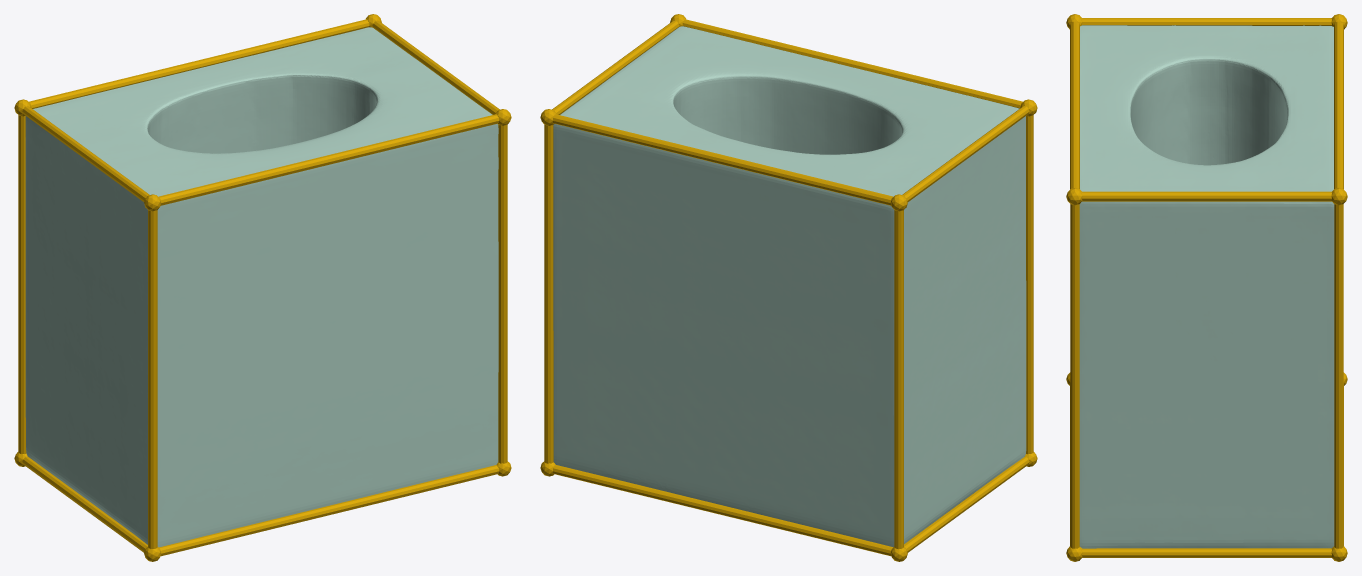
Rendered from sam3d_with_obb_viewer.glb.
3 renders of one model, left to right at view 1: azimuth 30°, elevation 25°; view 2: azimuth 150°, elevation 25°; view 3: azimuth 270°, elevation 25°, orthographic.
Visible parts, largest first — view 1: world; view 2: world; view 3: world.
Part boxes in pixels (<box>): world: <box>14,14,511,561</box>; world: <box>540,14,1037,561</box>; world: <box>1066,14,1347,561</box>.
Bounding box in the file's own units: 0.0536 × 0.0514 × 0.0352.
